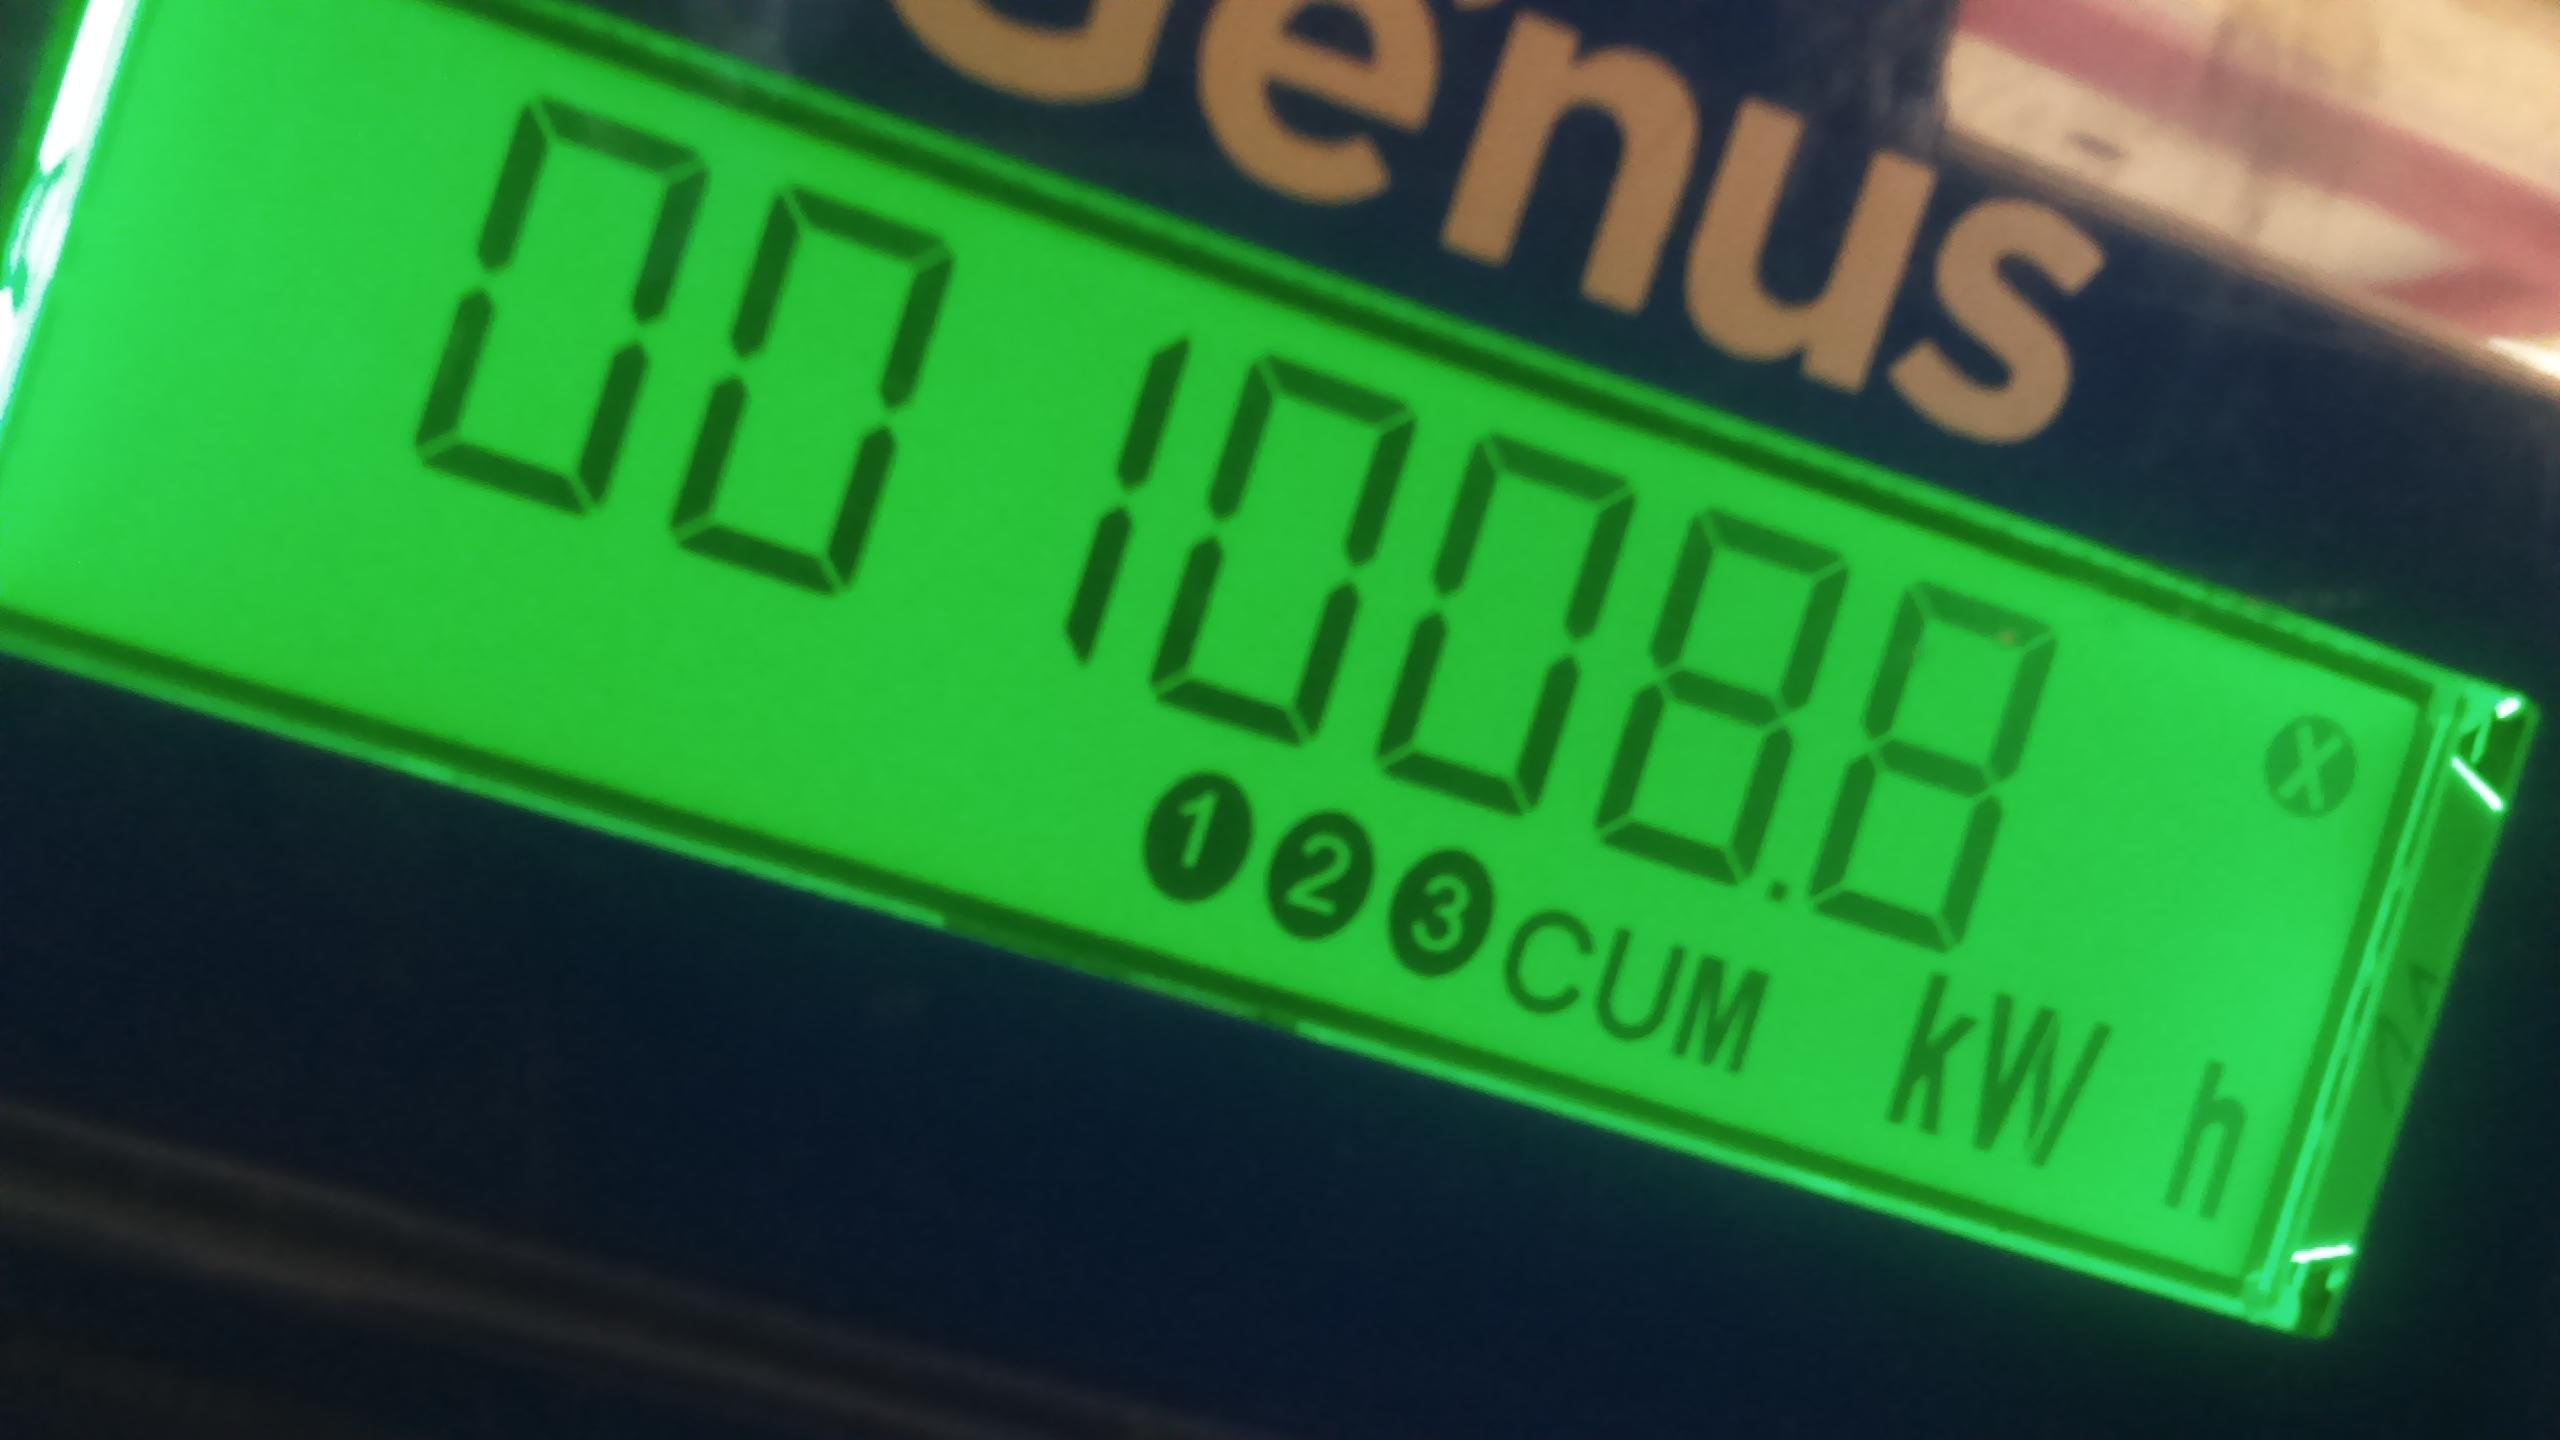.: (1876, 964, 2244, 1254)
0: (1751, 838, 1815, 939)
1: (388, 68, 737, 489), (654, 203, 987, 586), (1121, 343, 1412, 766), (1368, 433, 1642, 802)
2: (1004, 283, 1227, 703)
9: (1607, 473, 1862, 856), (1821, 533, 2052, 946)
